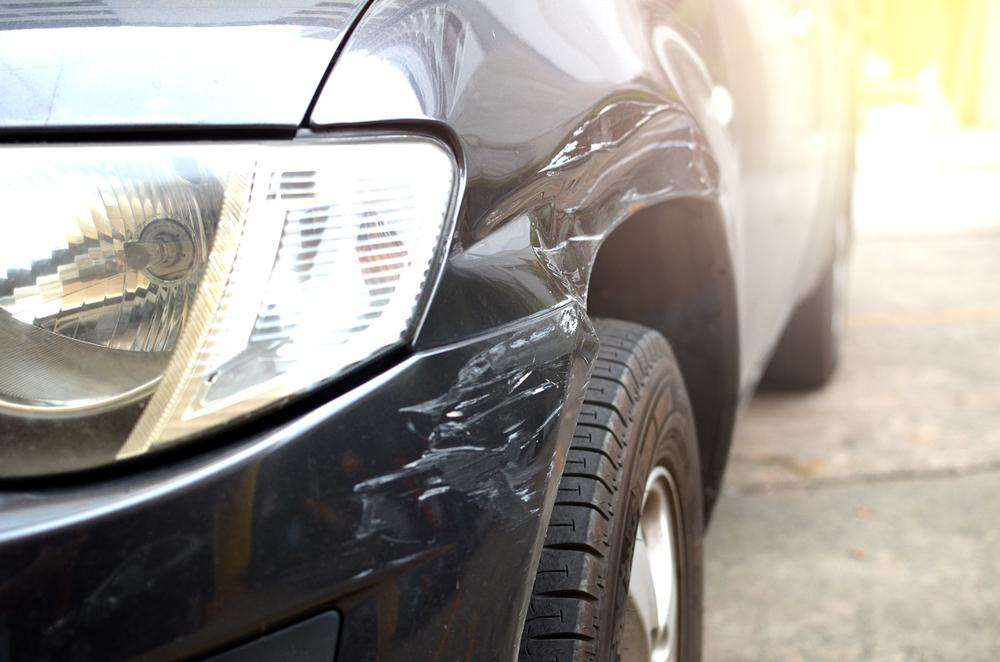dent: (455, 91, 706, 300)
scratch: (345, 299, 588, 550)
